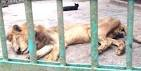lion: (5, 19, 131, 60)
